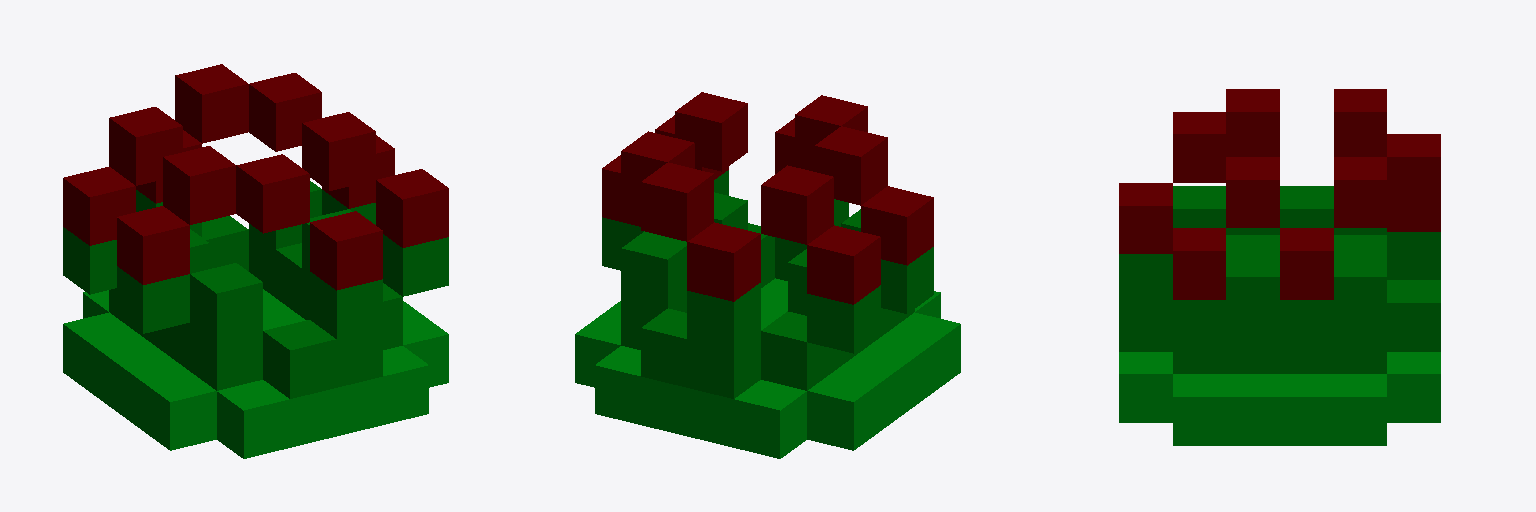
3 renders of one model, left to right at view 1: azimuth 30°, elevation 25°; view 2: azimuth 150°, elevation 25°; view 3: azimuth 270°, elevation 25°, orthographic.
Parts seen in each view (by area): view 1: object 1; view 2: object 1; view 3: object 1.
Part boxes in pixels (bbox=[...]): object 1: bbox=[63, 64, 448, 458]; object 1: bbox=[575, 92, 960, 458]; object 1: bbox=[1119, 89, 1440, 445].
Size of the model in its own units: 0.6 by 0.5 by 0.6.
1 materials, 1 textured.